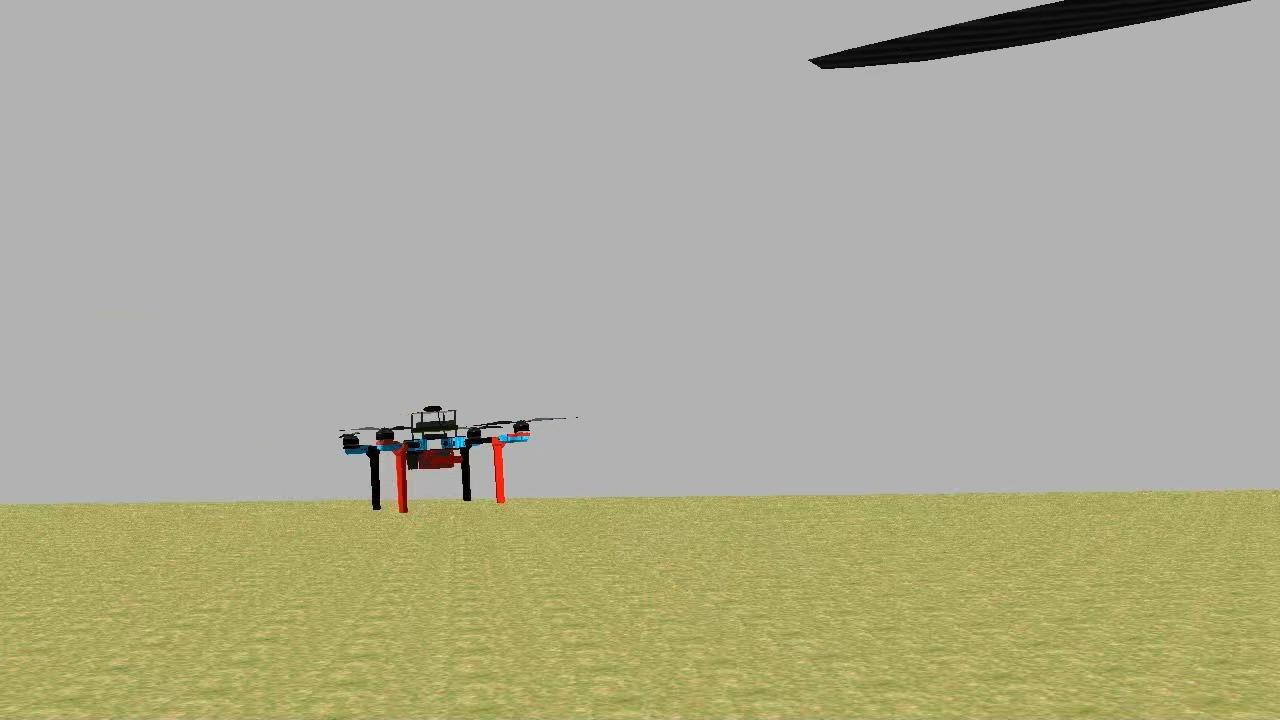UAV: (334, 400, 536, 514)
